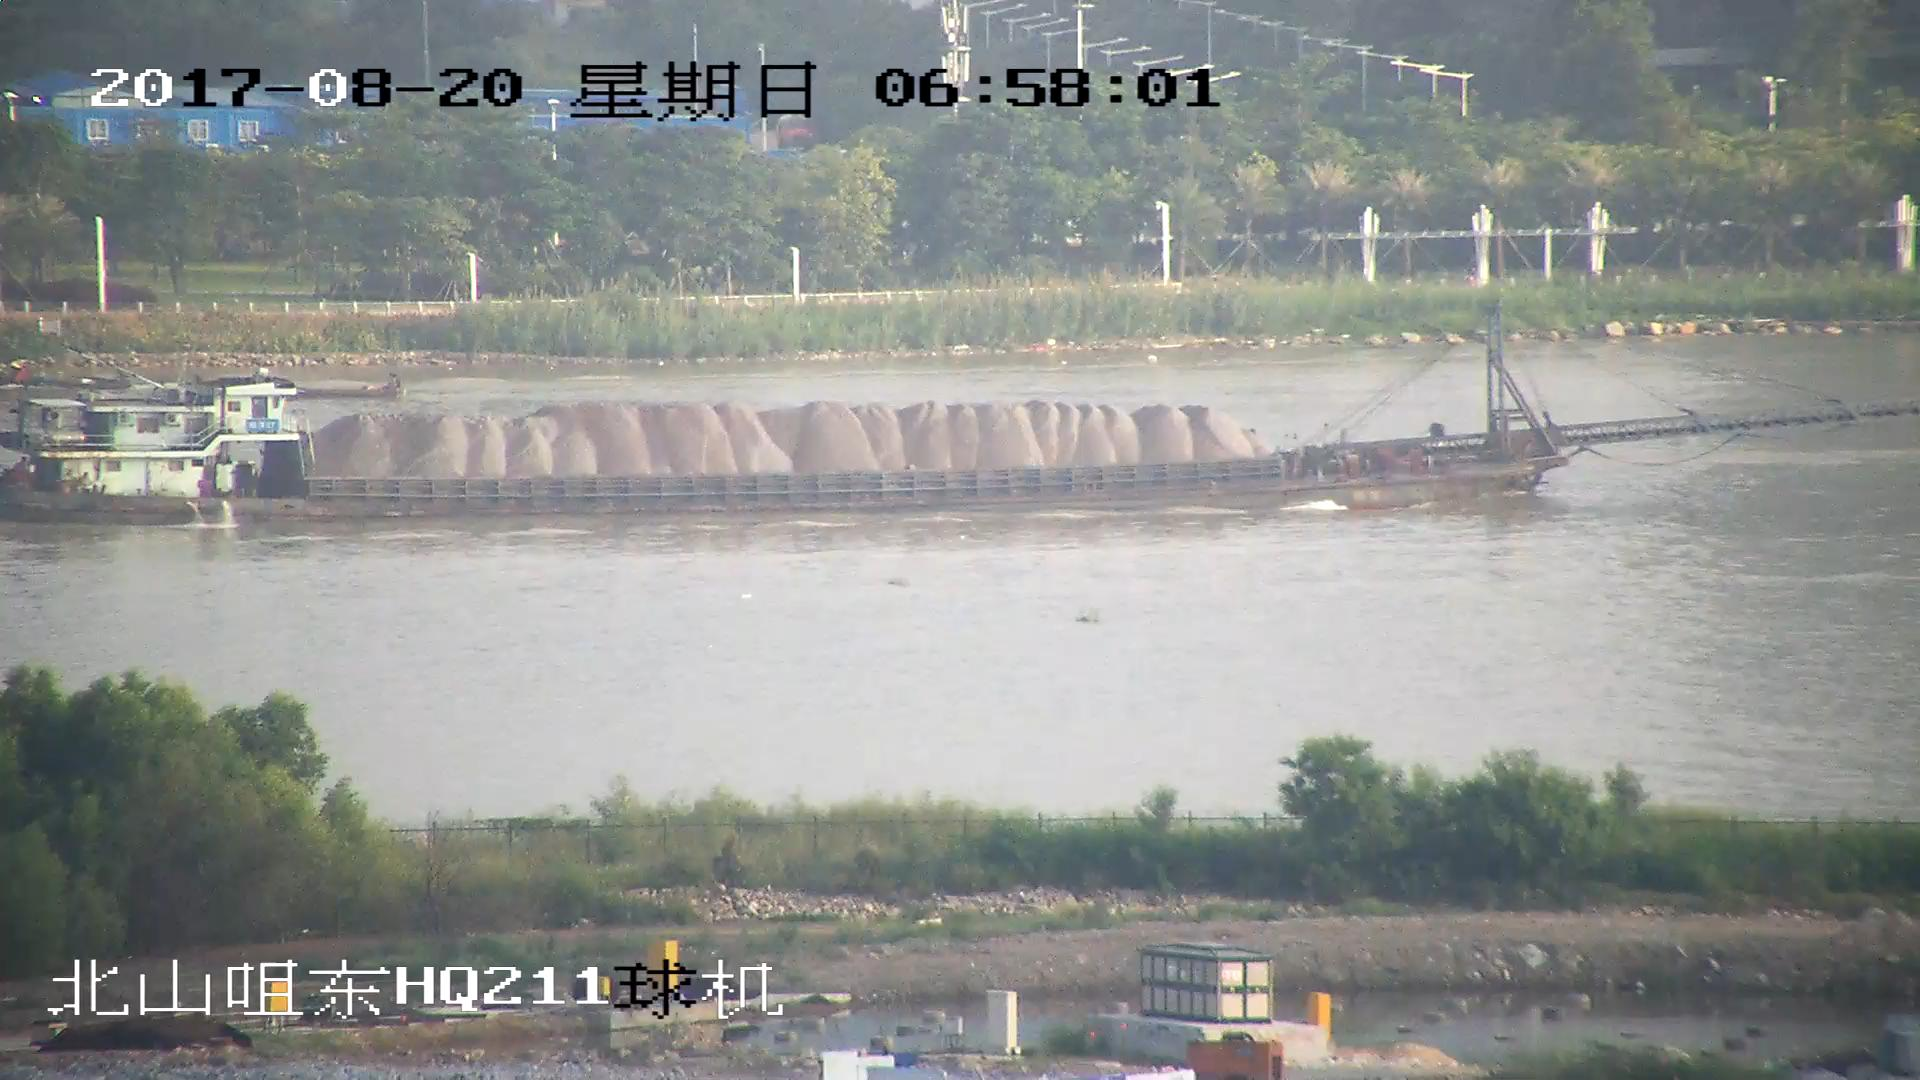ore carrier: (1, 302, 1920, 525)
